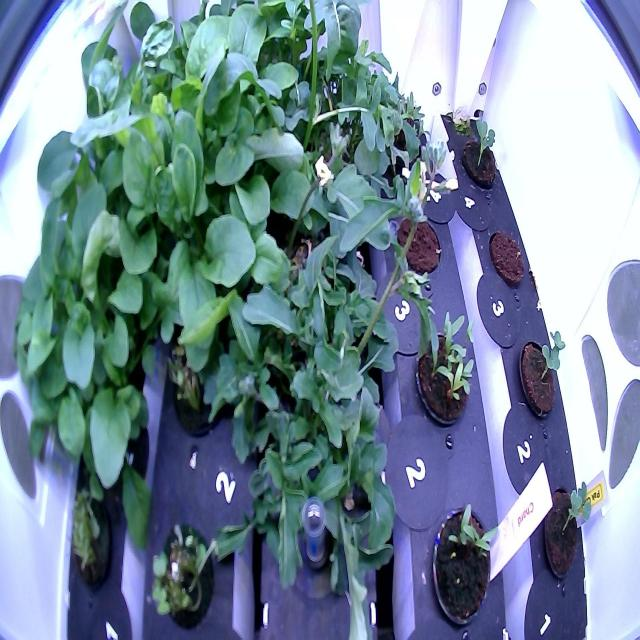germination: (425, 497, 501, 631), (64, 484, 117, 594)
pod: (392, 202, 448, 286), (484, 224, 529, 292)
